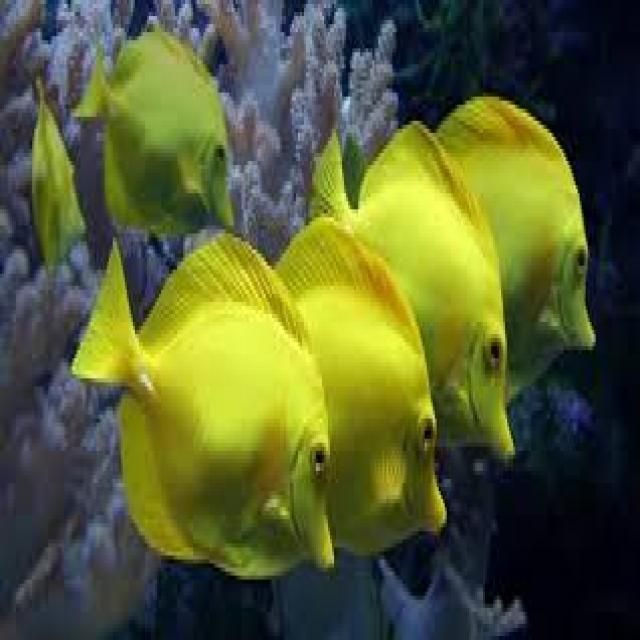TangFish: (75, 230, 336, 580), (308, 125, 531, 463), (277, 223, 444, 554), (443, 92, 601, 353), (68, 22, 234, 235), (20, 69, 84, 276)
